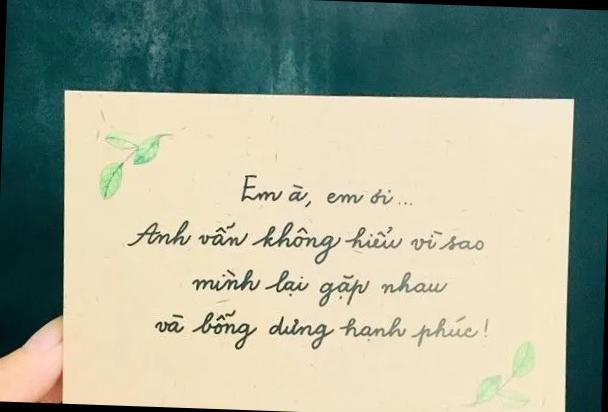text: (123, 214, 487, 273), (150, 301, 492, 360), (188, 262, 451, 314), (240, 173, 416, 214)
